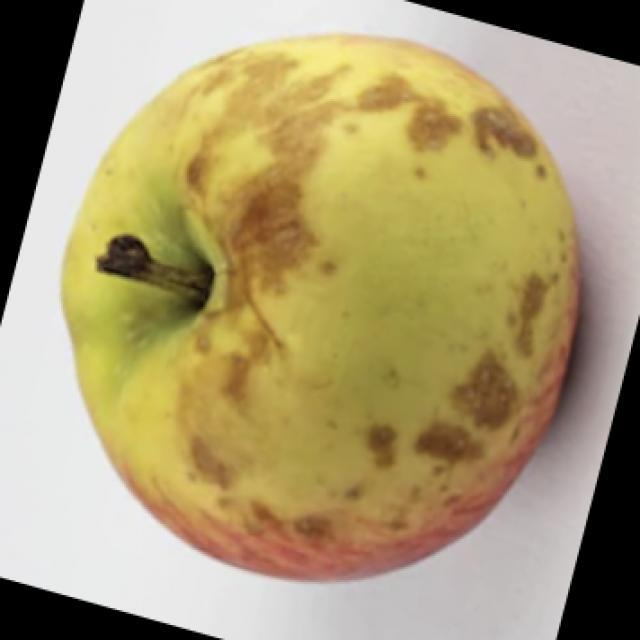Rotten: (80, 34, 575, 598)
